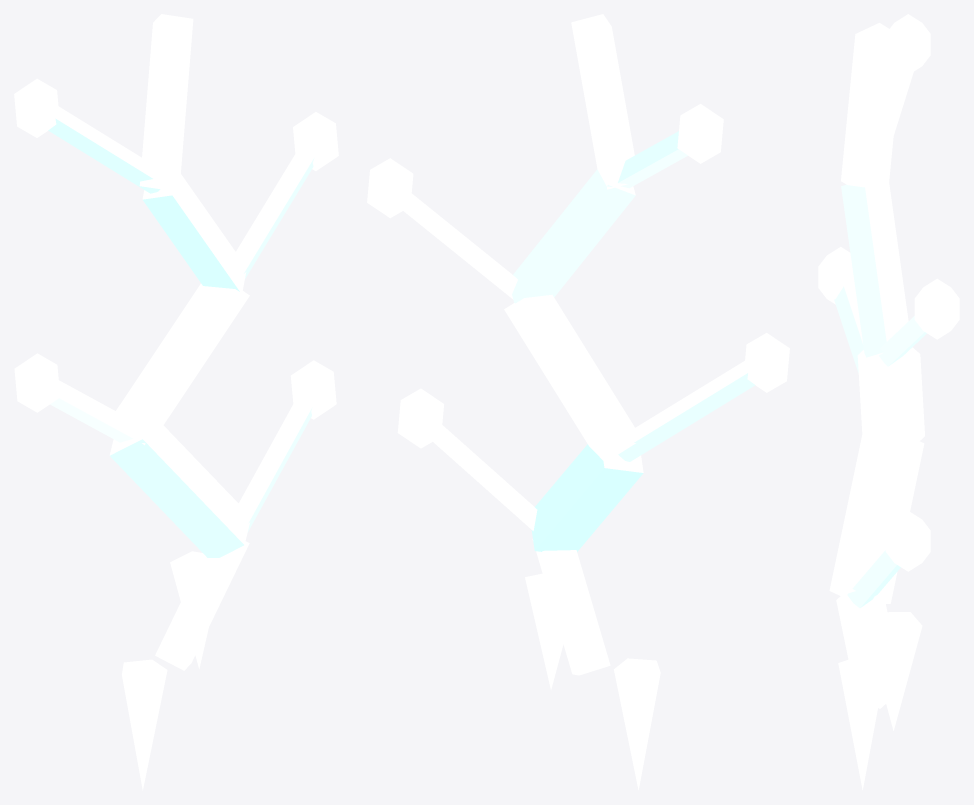
The model's file is lightning_bolt.glb.
3 renders of one model, left to right at view 1: azimuth 30°, elevation 25°; view 2: azimuth 150°, elevation 25°; view 3: azimuth 270°, elevation 25°, orthographic. The views are drawn at different scales.
Parts seen in each view (by area): view 1: BoltSegment_1, BoltSegment_2, BoltSegment_4, BoltSegment_3, BoltSegment_0, LightningWake_1, LightningBranch_2, LightningBranch_3, LightningBranch_0, LightningBranch_1, BranchSpark_1, BranchSpark_3 (+3 smaller); view 2: BoltSegment_2, BoltSegment_1, BoltSegment_3, BoltSegment_4, BoltSegment_0, LightningBranch_1, LightningWake_1, LightningWake_0, LightningBranch_2, LightningBranch_0, BranchSpark_3, BranchSpark_0 (+3 smaller); view 3: BoltSegment_1, BoltSegment_3, BoltSegment_4, BoltSegment_2, BoltSegment_0, LightningWake_0, BranchSpark_0, BranchSpark_2, LightningWake_1, BranchSpark_1, BranchSpark_3, LightningBranch_0 (+3 smaller).
Boxes of the visible parts, bbox=[...] form: BoltSegment_1: bbox=[109, 425, 249, 557]; BoltSegment_2: bbox=[116, 283, 249, 445]; BoltSegment_4: bbox=[139, 14, 193, 190]; BoltSegment_3: bbox=[142, 174, 246, 292]; BoltSegment_0: bbox=[155, 541, 249, 670]; LightningWake_1: bbox=[122, 659, 167, 790]; LightningBranch_2: bbox=[236, 148, 314, 278]; LightningBranch_3: bbox=[48, 106, 160, 193]; LightningBranch_0: bbox=[238, 398, 312, 532]; LightningBranch_1: bbox=[50, 380, 133, 442]; BranchSpark_1: bbox=[14, 353, 60, 412]; BranchSpark_3: bbox=[14, 78, 58, 137]; BoltSegment_2: bbox=[504, 294, 639, 462]; BoltSegment_1: bbox=[531, 444, 643, 551]; BoltSegment_3: bbox=[512, 169, 635, 303]; BoltSegment_4: bbox=[571, 14, 634, 189]; BoltSegment_0: bbox=[532, 539, 610, 675]; LightningBranch_1: bbox=[618, 361, 755, 461]; LightningWake_1: bbox=[614, 658, 660, 789]; LightningWake_0: bbox=[525, 573, 580, 689]; LightningBranch_2: bbox=[401, 192, 517, 299]; LightningBranch_0: bbox=[431, 424, 537, 530]; BranchSpark_3: bbox=[677, 104, 723, 163]; BranchSpark_0: bbox=[397, 388, 443, 448]; BoltSegment_1: bbox=[829, 435, 924, 603]; BoltSegment_3: bbox=[841, 182, 912, 357]; BoltSegment_4: bbox=[841, 23, 903, 188]; BoltSegment_2: bbox=[857, 347, 924, 455]; BoltSegment_0: bbox=[836, 595, 889, 708]; LightningWake_0: bbox=[874, 612, 922, 730]; BranchSpark_0: bbox=[885, 511, 930, 571]; BranchSpark_2: bbox=[914, 278, 959, 339]; LightningWake_1: bbox=[838, 659, 877, 789]; BranchSpark_1: bbox=[818, 247, 855, 304]; BranchSpark_3: bbox=[890, 14, 930, 71]; LightningBranch_0: bbox=[847, 550, 900, 607].
Size of the model in its own units: 0.8984 by 1.78 by 0.2936.
